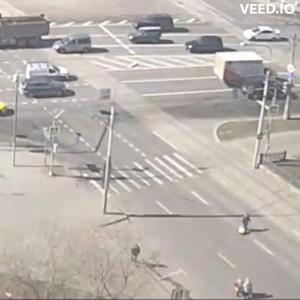car: (216, 52, 284, 81), (1, 9, 50, 48), (135, 5, 175, 31), (53, 33, 99, 52), (25, 83, 76, 100), (246, 82, 288, 102), (129, 25, 165, 47), (187, 36, 227, 55), (245, 27, 283, 43), (31, 64, 68, 80)
